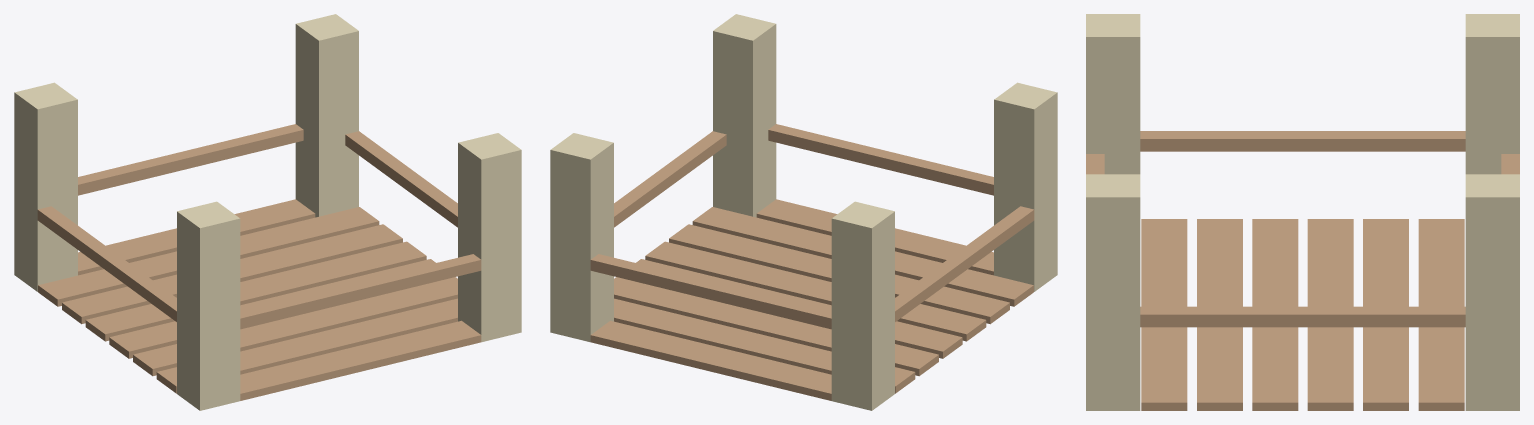
The model's file is towersquaremidopenhalf.glb.
3 views of the same model, side by side, from view 1: azimuth 30°, elevation 25°; view 2: azimuth 150°, elevation 25°; view 3: azimuth 270°, elevation 25° (orthographic). The views are drawn at different scales.
Parts seen in each view (by area): view 1: towerSquareMidOpenHalf, plank 19, plank 17, plank 22, plank 23, plank 18, plank 20, rail 9, rail 10, plank 16, rail 12, rail 11 (+1 smaller); view 2: towerSquareMidOpenHalf, plank 16, plank 21, plank 18, plank 20, plank 22, plank 23, rail 10, rail 9, plank 19, rail 12, rail 11 (+1 smaller); view 3: towerSquareMidOpenHalf, plank 17, plank 20, plank 21, plank 23, plank 18, plank 22, rail 11, rail 12, rail 9, rail 10.
Boxes of the visible parts, x1,y1,x2,y2 form: towerSquareMidOpenHalf: (14, 14, 521, 410); plank 19: (240, 320, 481, 400); plank 17: (85, 241, 426, 341); plank 22: (133, 277, 457, 376); plank 23: (38, 207, 379, 306); plank 18: (62, 224, 402, 324); plank 20: (156, 298, 457, 393); rail 9: (240, 254, 481, 329); rail 10: (78, 124, 303, 195); plank 16: (78, 199, 315, 275); rail 12: (37, 206, 176, 321); rail 11: (345, 131, 457, 227); towerSquareMidOpenHalf: (550, 14, 1057, 410); plank 16: (590, 320, 831, 400); plank 21: (645, 241, 986, 341); plank 18: (614, 277, 938, 376); plank 20: (692, 207, 1033, 306); plank 22: (669, 224, 1009, 324); plank 23: (614, 298, 915, 393); rail 10: (590, 254, 831, 329); rail 9: (768, 124, 993, 195); plank 19: (756, 199, 993, 275); rail 12: (895, 206, 1034, 321); rail 11: (614, 131, 726, 227); towerSquareMidOpenHalf: (1086, 14, 1519, 410); plank 17: (1307, 219, 1353, 410); plank 20: (1141, 219, 1187, 410); plank 21: (1252, 219, 1298, 410); plank 23: (1418, 219, 1464, 410); plank 18: (1363, 219, 1408, 410); plank 22: (1197, 219, 1242, 410); rail 11: (1140, 306, 1465, 327); rail 12: (1140, 131, 1465, 151); rail 9: (1086, 154, 1104, 174); rail 10: (1501, 154, 1519, 174).
Bounding box in the file's own units: 9.3 × 5.05 × 9.3.
